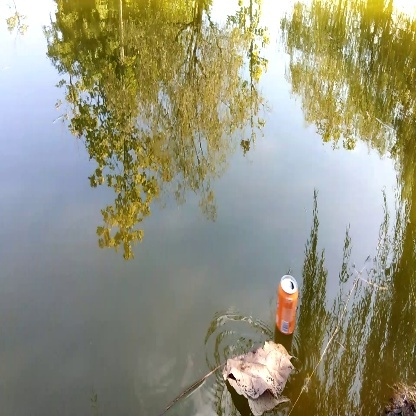bottle: (272, 273, 305, 338)
leaf: (218, 341, 308, 415)
